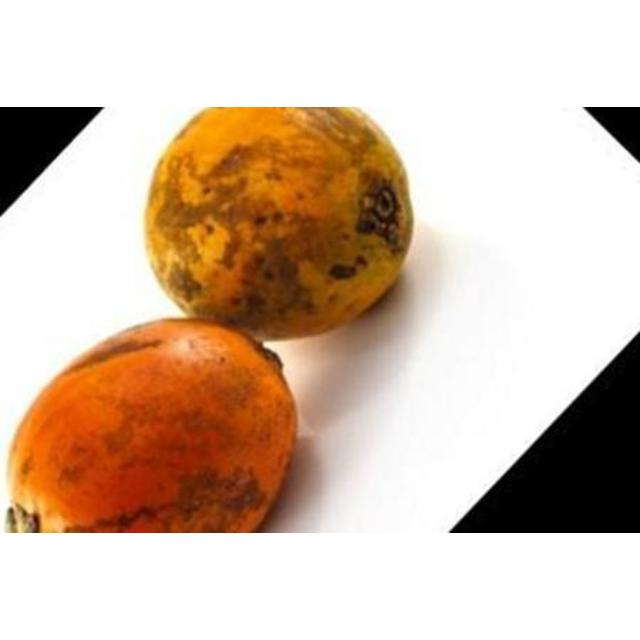good: (145, 107, 414, 345), (7, 319, 299, 532)
